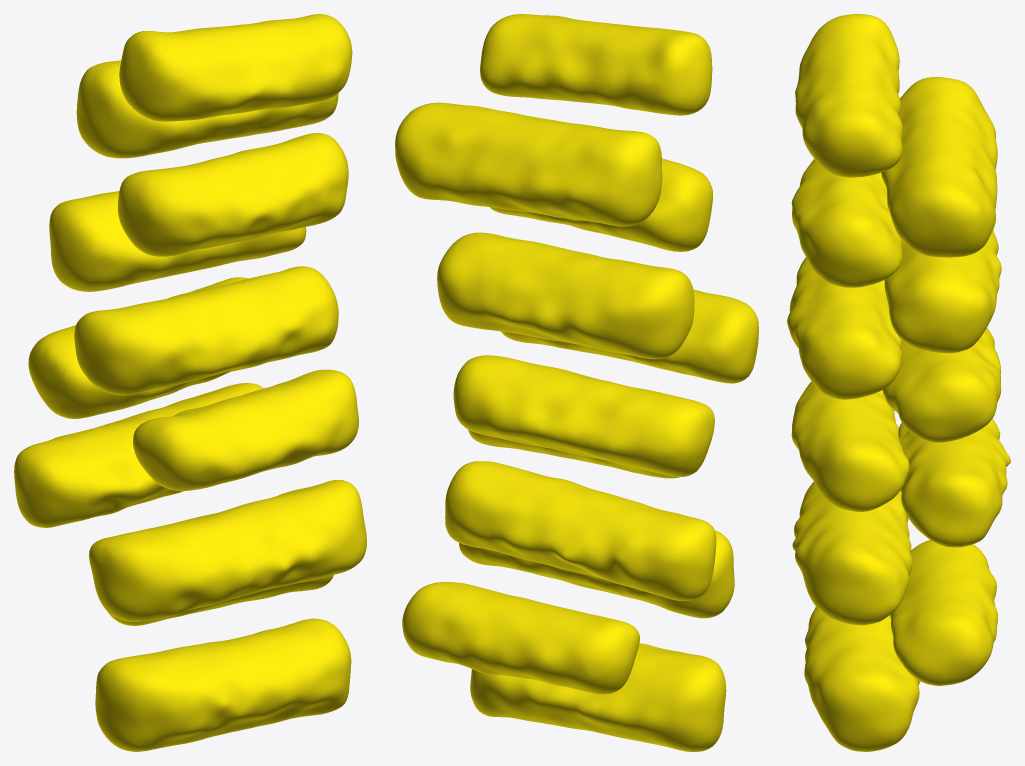
The model's file is assembly_nps.glb.
3 renders of one model, left to right at view 1: azimuth 30°, elevation 25°; view 2: azimuth 150°, elevation 25°; view 3: azimuth 270°, elevation 25°, orthographic. The views are drawn at different scales.
Visible parts, largest first — view 1: Assembly_nps; view 2: Assembly_nps; view 3: Assembly_nps.
Boxes of the visible parts, x1,y1,x2,y2 form: Assembly_nps: [14, 14, 366, 751]; Assembly_nps: [395, 14, 758, 751]; Assembly_nps: [787, 14, 1010, 751].
Bounding box in the file's own units: 127 × 283 × 87.54.
